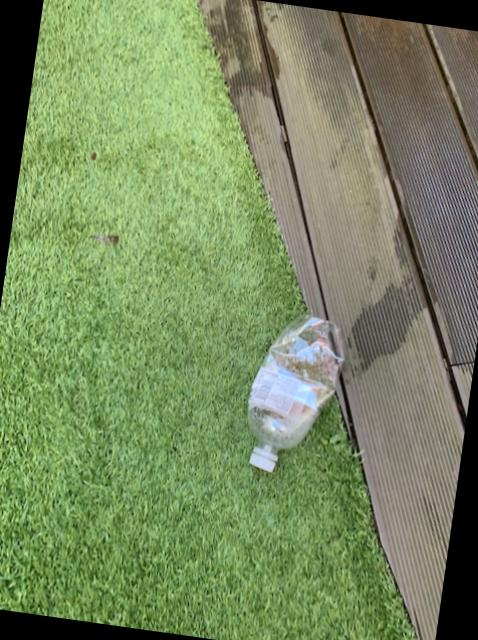plastic: (247, 313, 342, 469)
